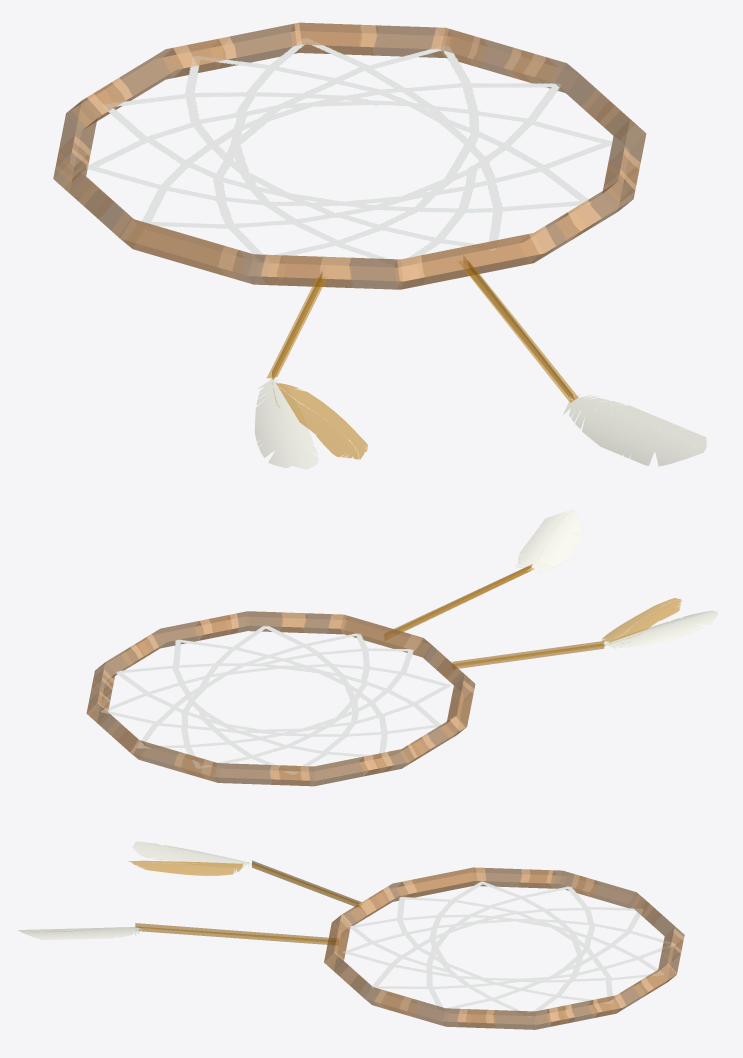
The model's file is dreamcatcher.gltf.
3 views of the same model, one above another, from view 1: azimuth 30°, elevation 25°; view 2: azimuth 150°, elevation 25°; view 3: azimuth 270°, elevation 25° (orthographic). The views are drawn at different scales.
Visible parts, largest first — view 1: DreamCatcher; view 2: DreamCatcher; view 3: DreamCatcher.
Boxes of the visible parts, left/top/right/bottom form: DreamCatcher: left=53, top=22, right=706, bottom=469; DreamCatcher: left=86, top=509, right=718, bottom=786; DreamCatcher: left=18, top=841, right=684, bottom=1029.
Size of the model in its own units: 1.05 by 0.0524 by 1.51.
Materials: 1 (1 with a texture image).
